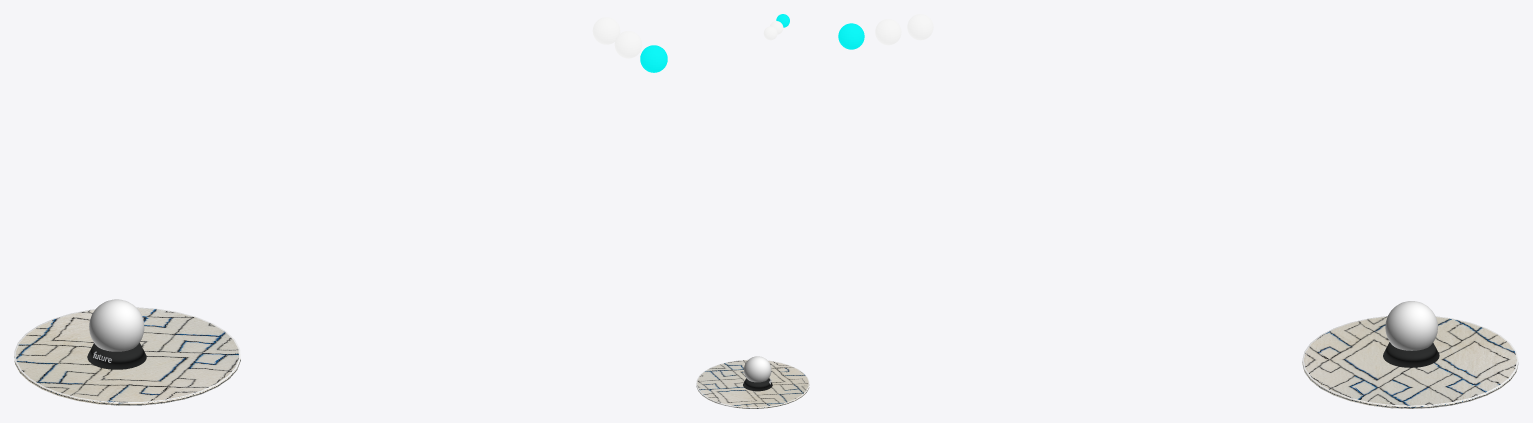
The model's file is crystal.gltf.
3 renders of one model, left to right at view 1: azimuth 30°, elevation 25°; view 2: azimuth 150°, elevation 25°; view 3: azimuth 270°, elevation 25°, orthographic. The views are drawn at different scales.
Parts seen in each view (by area): view 1: Circle, Sphere, Cylinder, particle12, particle3, particle1; view 2: Circle, Sphere, Cylinder, particle1, particle3; view 3: Circle, Sphere, Cylinder.
Part boxes in pixels (box(x1,y1,x2,y2)): Circle: box(14, 307, 240, 405); Sphere: box(89, 299, 144, 351); Cylinder: box(87, 343, 146, 369); particle12: box(614, 31, 642, 58); particle3: box(640, 45, 667, 72); particle1: box(592, 17, 620, 44); Circle: box(696, 359, 809, 408); Sphere: box(744, 356, 771, 382); Cylinder: box(743, 378, 772, 391); particle1: box(763, 26, 777, 40); particle3: box(776, 14, 789, 27); Circle: box(1302, 316, 1518, 408); Sphere: box(1385, 301, 1437, 350); Cylinder: box(1383, 342, 1439, 367).
Bounding box in the file's own units: 21.32 × 28.09 × 38.38.
7 materials, 1 textured.
